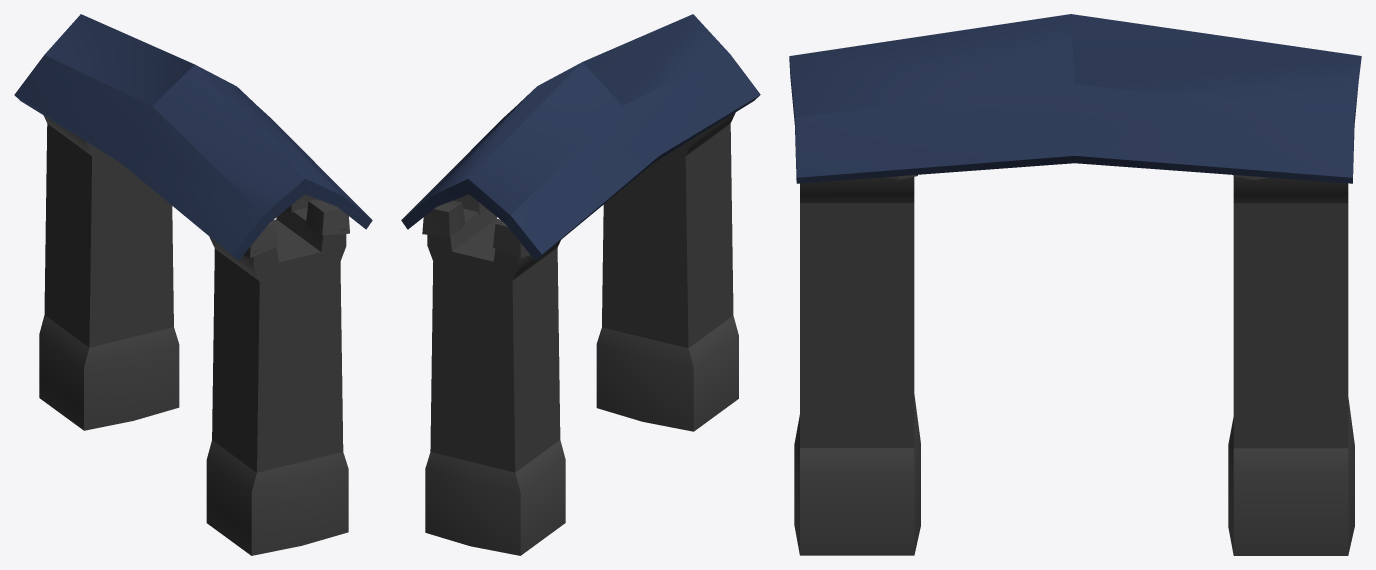
File: Stone_Wall_Gate_Top.FBX
3 views of the same model, side by side, from view 1: azimuth 30°, elevation 25°; view 2: azimuth 150°, elevation 25°; view 3: azimuth 270°, elevation 25° (orthographic). The views are drawn at different scales.
Parts seen in each view (by area): view 1: Stone_Wall_Gate_Part_a, Stone_Wall_Top, Stone_Wall_Gate_Part_b; view 2: Stone_Wall_Gate_Part_b, Stone_Wall_Top, Stone_Wall_Gate_Part_a; view 3: Stone_Wall_Top, Stone_Wall_Gate_Part_b, Stone_Wall_Gate_Part_a.
Part boxes in pixels (box(x1,y1,x2,y2)): Stone_Wall_Gate_Part_a: box(206, 194, 349, 555); Stone_Wall_Top: box(14, 14, 372, 260); Stone_Wall_Gate_Part_b: box(39, 115, 179, 430); Stone_Wall_Gate_Part_b: box(422, 194, 565, 555); Stone_Wall_Top: box(401, 14, 760, 260); Stone_Wall_Gate_Part_a: box(596, 112, 738, 431); Stone_Wall_Top: box(789, 14, 1361, 183); Stone_Wall_Gate_Part_b: box(1228, 175, 1354, 555); Stone_Wall_Gate_Part_a: box(794, 175, 920, 555).
Bounding box in the file's own units: 186 × 464 × 458.
2 materials, 2 textured.
